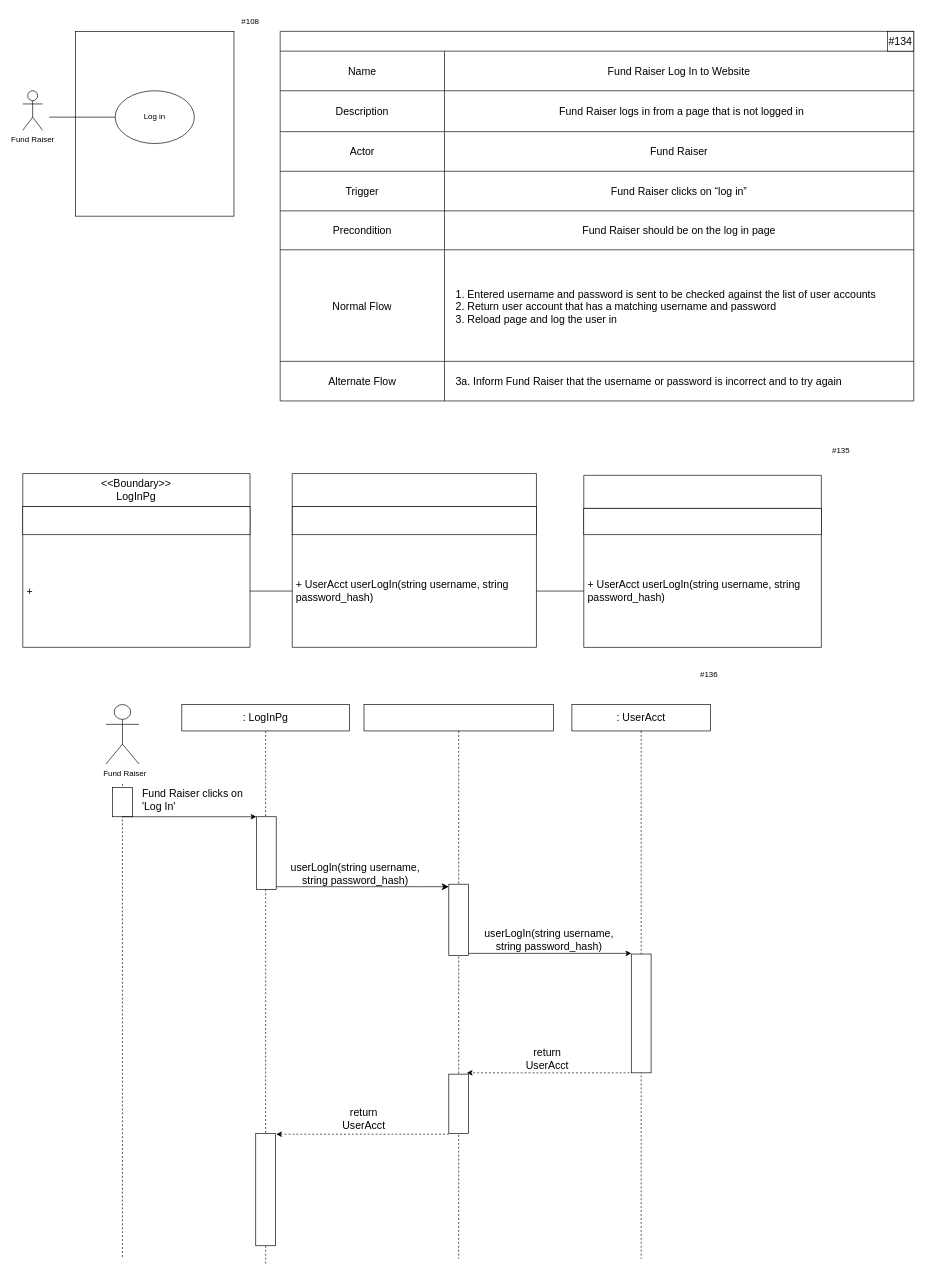
Image size: 932x1277. Some labels were removed from this diagram. Each missing label, with the box of its shape:
: LogInC: (363, 704, 553, 1259)
<<Controller>> LogInC: (292, 473, 536, 647)
<<Entity>> UserAcct: (583, 475, 821, 647)
